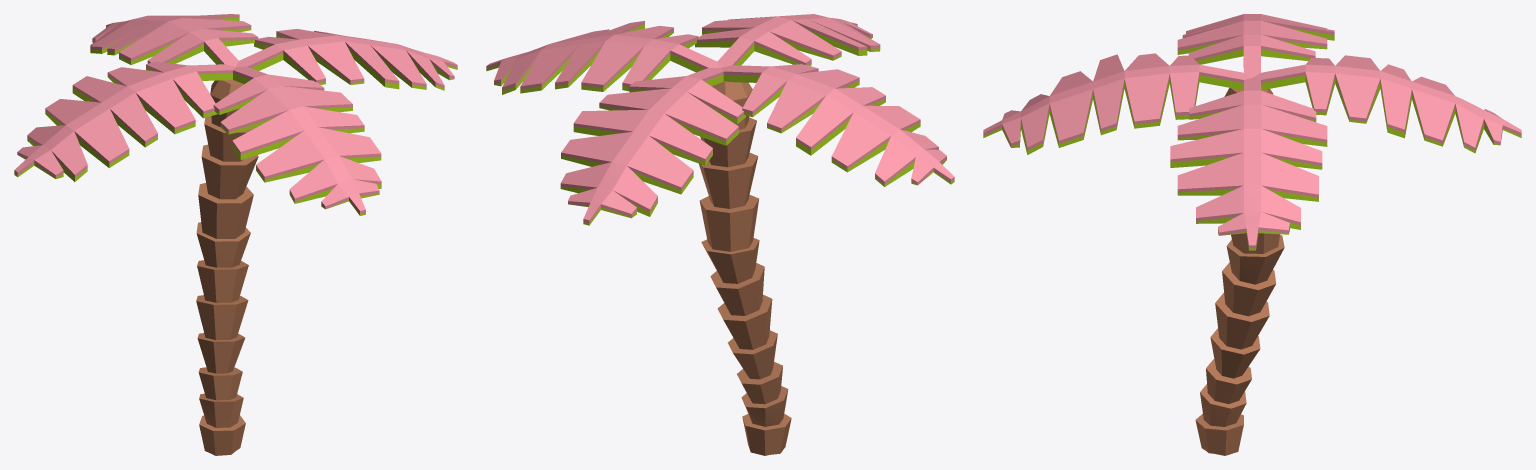
Rendered from BigPalmTree.obj.
The picture shows the model from 3 angles, left to right: view 1: azimuth 30°, elevation 25°; view 2: azimuth 150°, elevation 25°; view 3: azimuth 270°, elevation 25°; orthographic projection. The views are drawn at different scales.
Visible parts, largest first — view 1: Cylinder.013; view 2: Cylinder.013; view 3: Cylinder.013.
Boxes of the visible parts, x1,y1,x2,y2 form: Cylinder.013: (14,14,457,455); Cylinder.013: (486,14,954,455); Cylinder.013: (983,14,1521,455).
Size of the model in its own units: 6.67 by 5.4 by 6.67.
